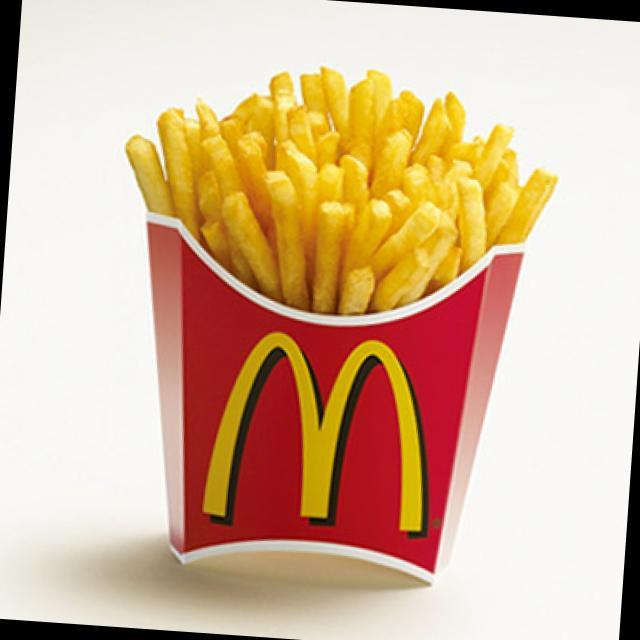French Fries: (129, 44, 558, 308)
